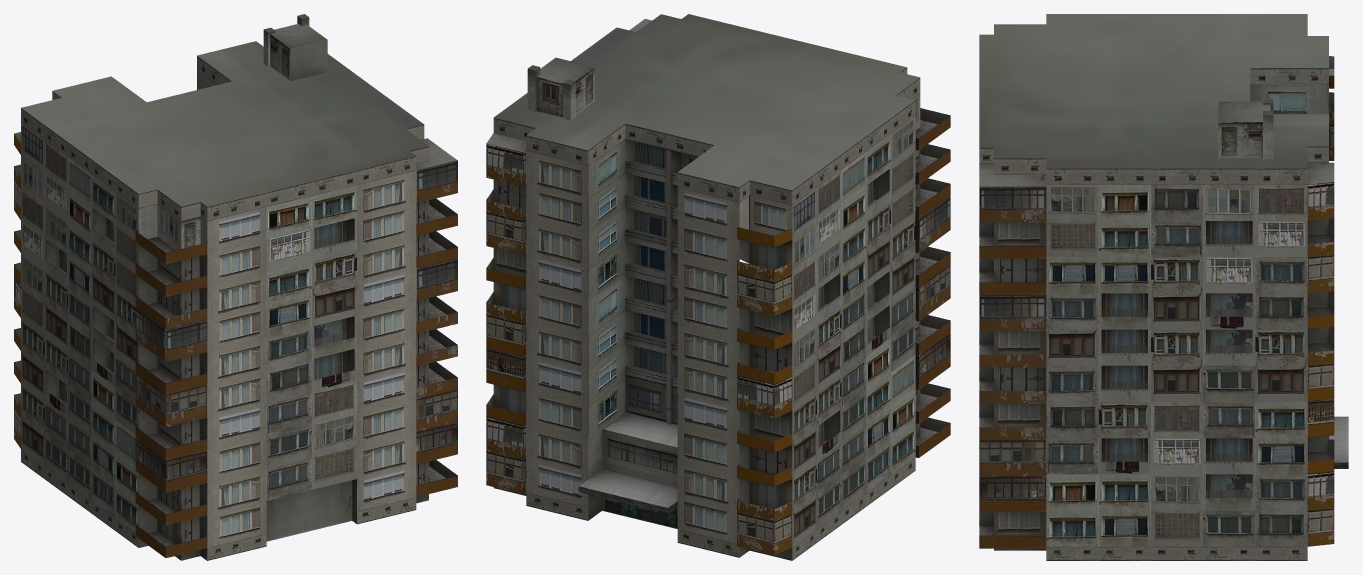
File: apartment_d.glb
3 views of the same model, side by side, from view 1: azimuth 30°, elevation 25°; view 2: azimuth 150°, elevation 25°; view 3: azimuth 270°, elevation 25° (orthographic). The views are drawn at different scales.
Visible parts, largest first — view 1: project_building03_reference; view 2: project_building03_reference; view 3: project_building03_reference.
Boxes of the visible parts, <box> form: project_building03_reference: <box>14,14,457,560</box>; project_building03_reference: <box>486,14,950,560</box>; project_building03_reference: <box>979,14,1348,560</box>.
Bounding box in the file's own units: 1198 × 1543 × 1184.
Materials: 1 (1 with a texture image).
